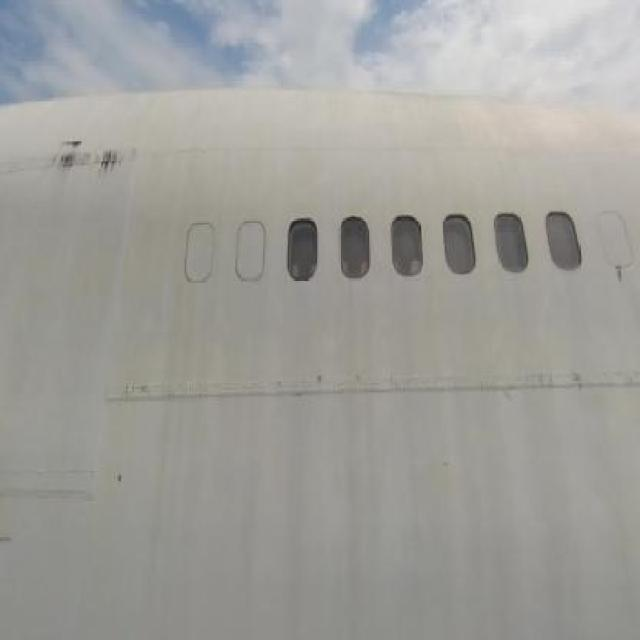Rust: (41, 125, 132, 207), (616, 262, 627, 286)
Scartch: (516, 364, 590, 398)
